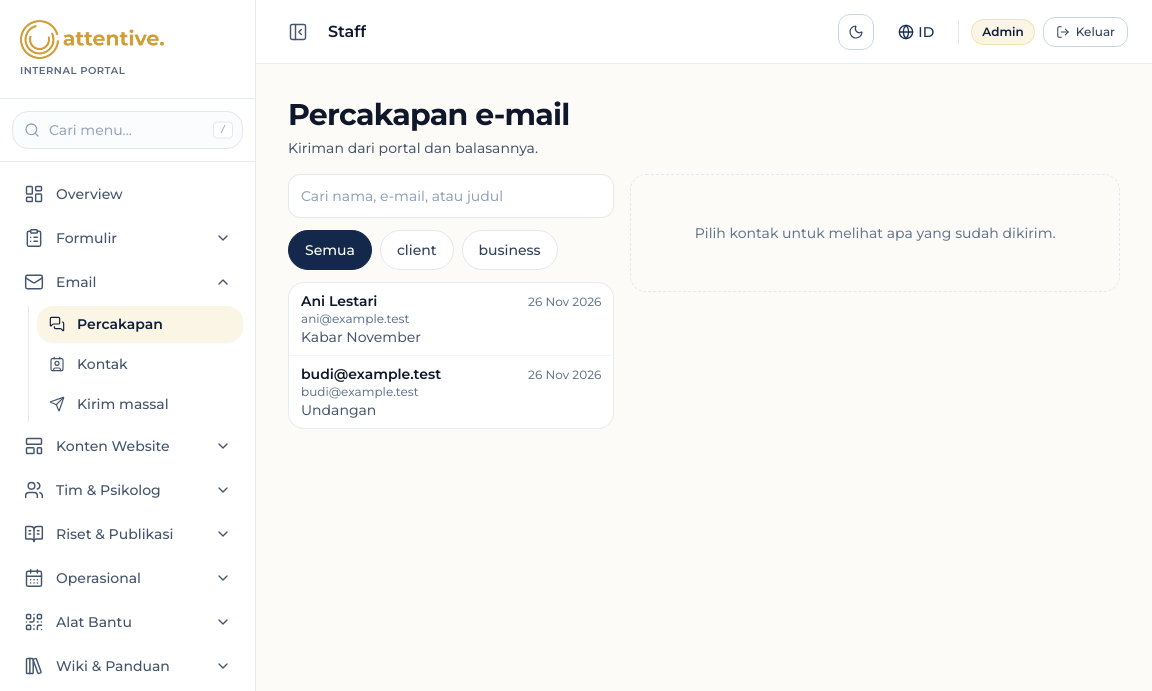
it: e-mail conversations › lists name and address, filters by chip and search
Expected: the text "Ani Lestari" is shown, top-left (301, 290), bottom-right (377, 310)
Expected: the text "ani@example.test" is shown, top-left (301, 310), bottom-right (410, 326)
Click the button "business" at x=510, y=250, box top-left (462, 230), bottom-right (558, 270)
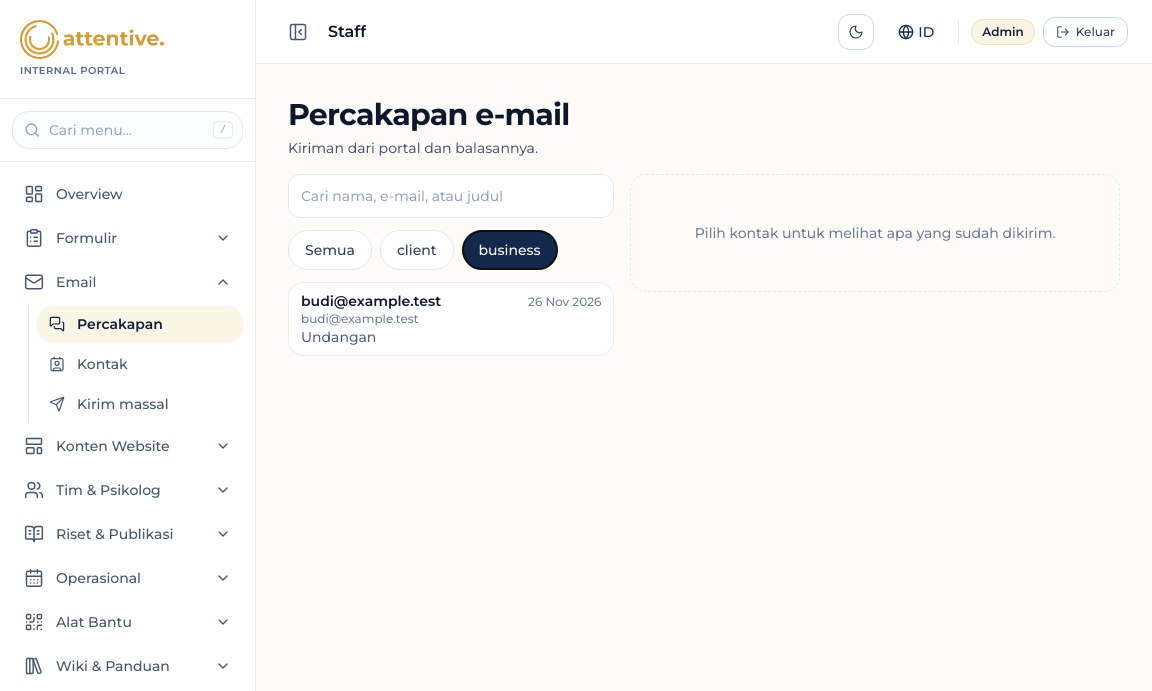
Expected: the button "Ani Lestari" is gone
Click the button "Semua" at x=330, y=250, box top-left (288, 230), bottom-right (372, 270)
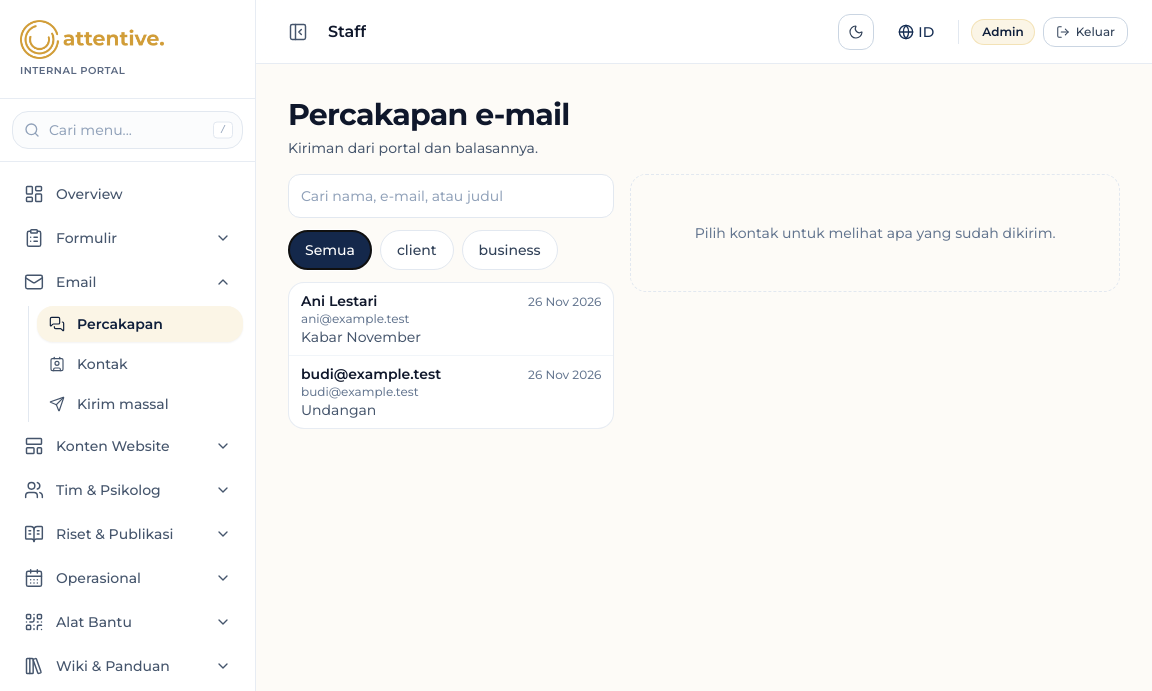
Type "undangan" into the search field named "Cari percakapan" at x=451, y=196, box top-left (288, 174), bottom-right (614, 218)
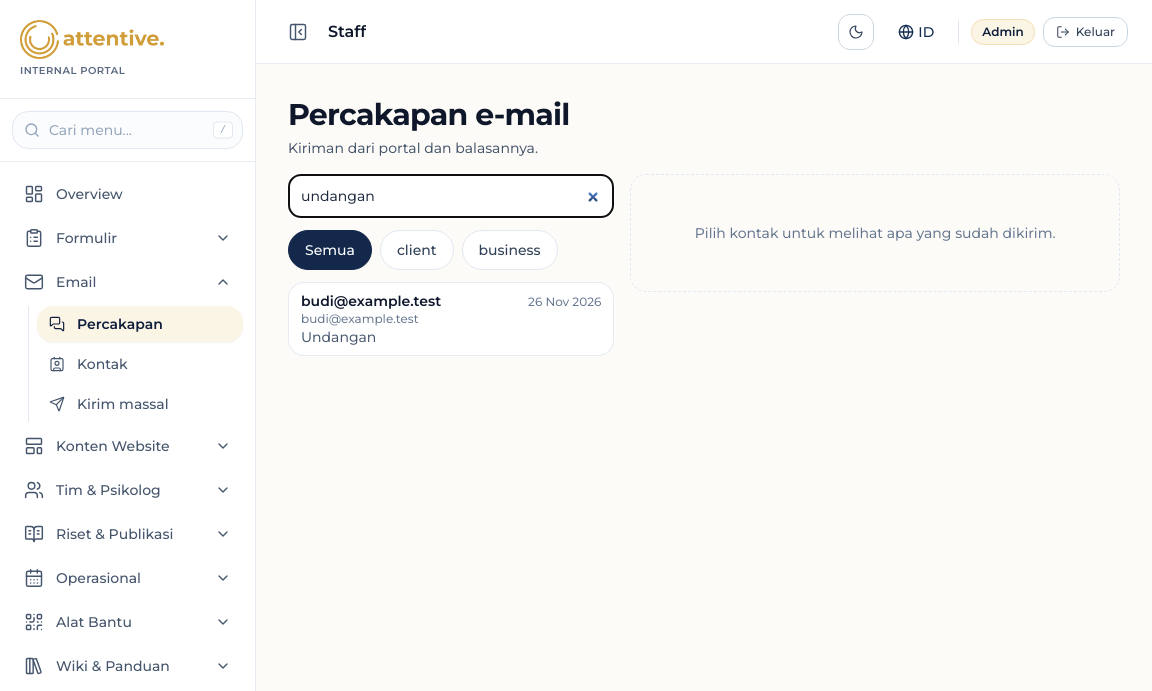
Expected: the text "Undangan" is shown, top-left (301, 328), bottom-right (376, 346)
Expected: the button "Ani Lestari" is gone
